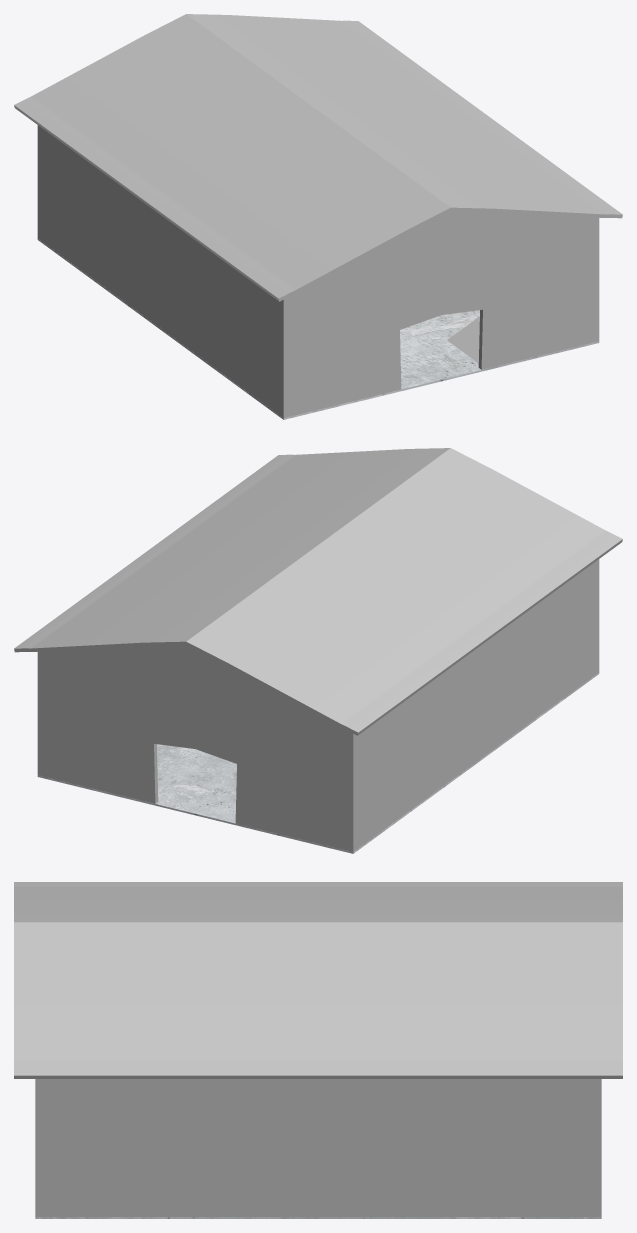
File: Building.fbx
3 views of the same model, one above another, from view 1: azimuth 30°, elevation 25°; view 2: azimuth 150°, elevation 25°; view 3: azimuth 270°, elevation 25° (orthographic). The views are drawn at different scales.
Parts seen in each view (by area): view 1: Cube, Cube.002, Cube.001; view 2: Cube, Cube.002; view 3: Cube, Cube.002.
Part boxes in pixels (bbox=[...]): Cube: bbox=[14, 14, 622, 417]; Cube.002: bbox=[37, 238, 599, 419]; Cube.001: bbox=[447, 316, 479, 363]; Cube: bbox=[14, 448, 622, 851]; Cube.002: bbox=[37, 672, 599, 853]; Cube: bbox=[14, 882, 622, 1216]; Cube.002: bbox=[35, 1217, 601, 1218].
Size of the model in its own units: 14318 by 7248 by 19052.
